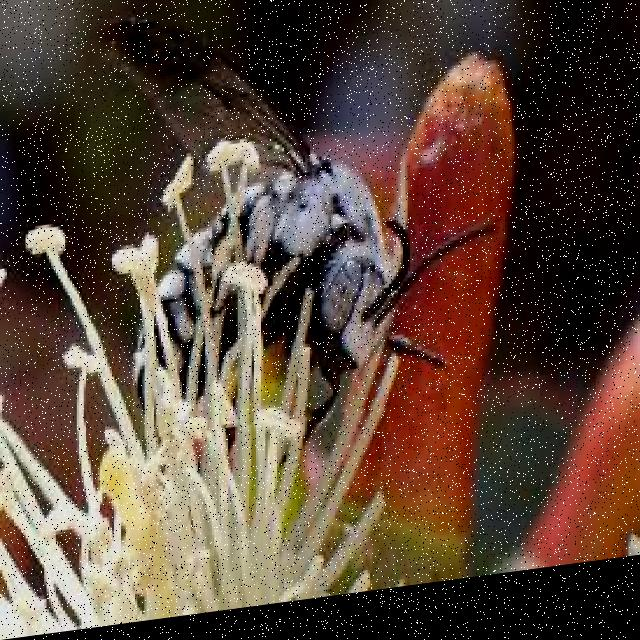Thyreus: (88, 0, 474, 449)
